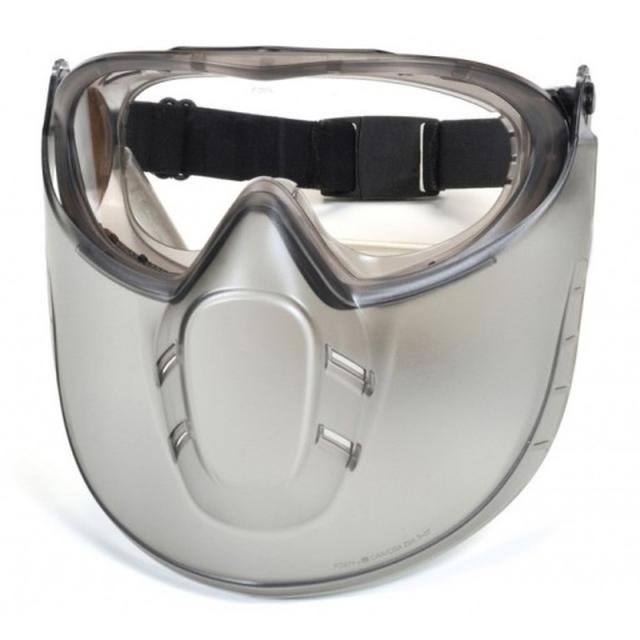Mask: (36, 11, 640, 606)
